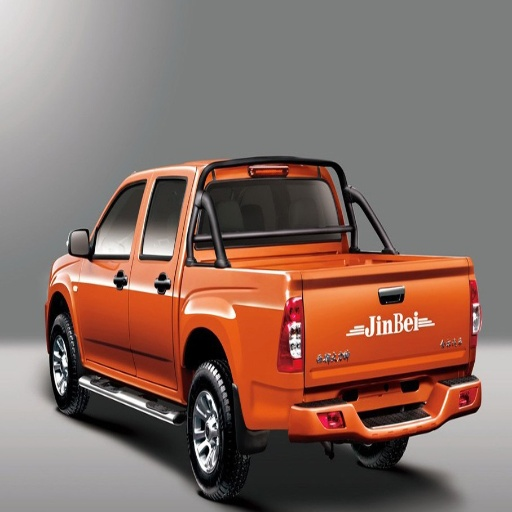back_bumper: (264, 364, 479, 440)
trunk: (165, 239, 469, 422)
